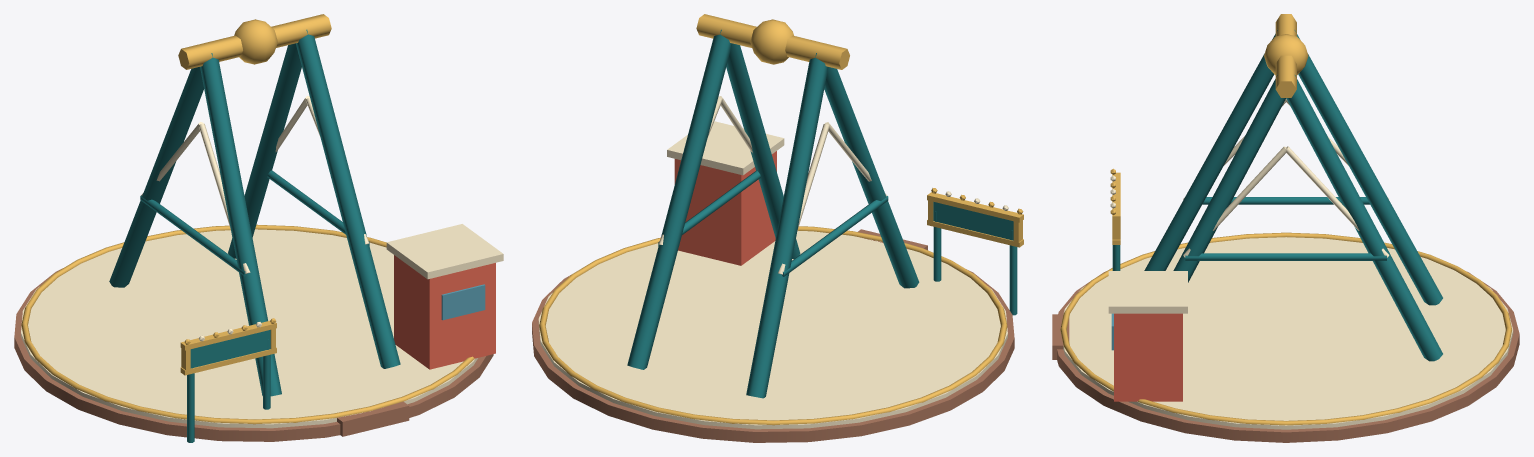
The model's file is ride_ferris.glb.
3 views of the same model, side by side, from view 1: azimuth 30°, elevation 25°; view 2: azimuth 150°, elevation 25°; view 3: azimuth 270°, elevation 25° (orthographic). The views are drawn at different scales.
Parts seen in each view (by area): view 1: ride_ferris; view 2: ride_ferris; view 3: ride_ferris.
Part boxes in pixels (box(x1,y1,x2,y2)): ride_ferris: box(14, 14, 503, 442); ride_ferris: box(532, 14, 1023, 442); ride_ferris: box(1052, 14, 1519, 442).
Size of the model in its own units: 8.8 by 6.42 by 8.81.
